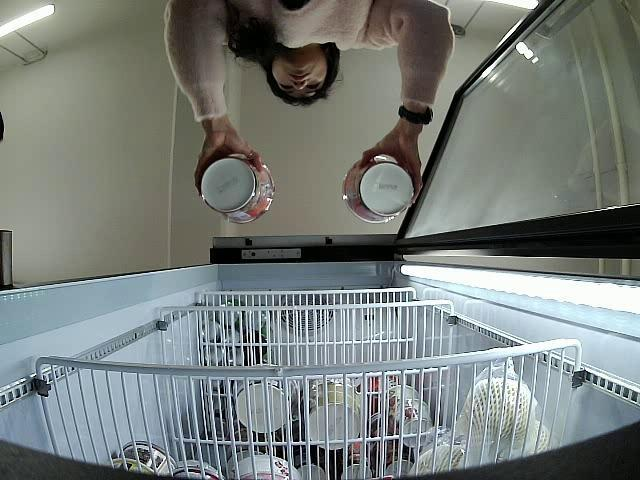01_ShinRamen_L: (200, 153, 276, 225), (341, 155, 415, 224)
